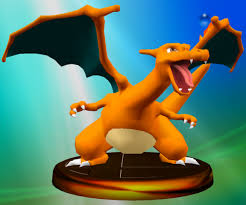charizard: (5, 4, 244, 166)
